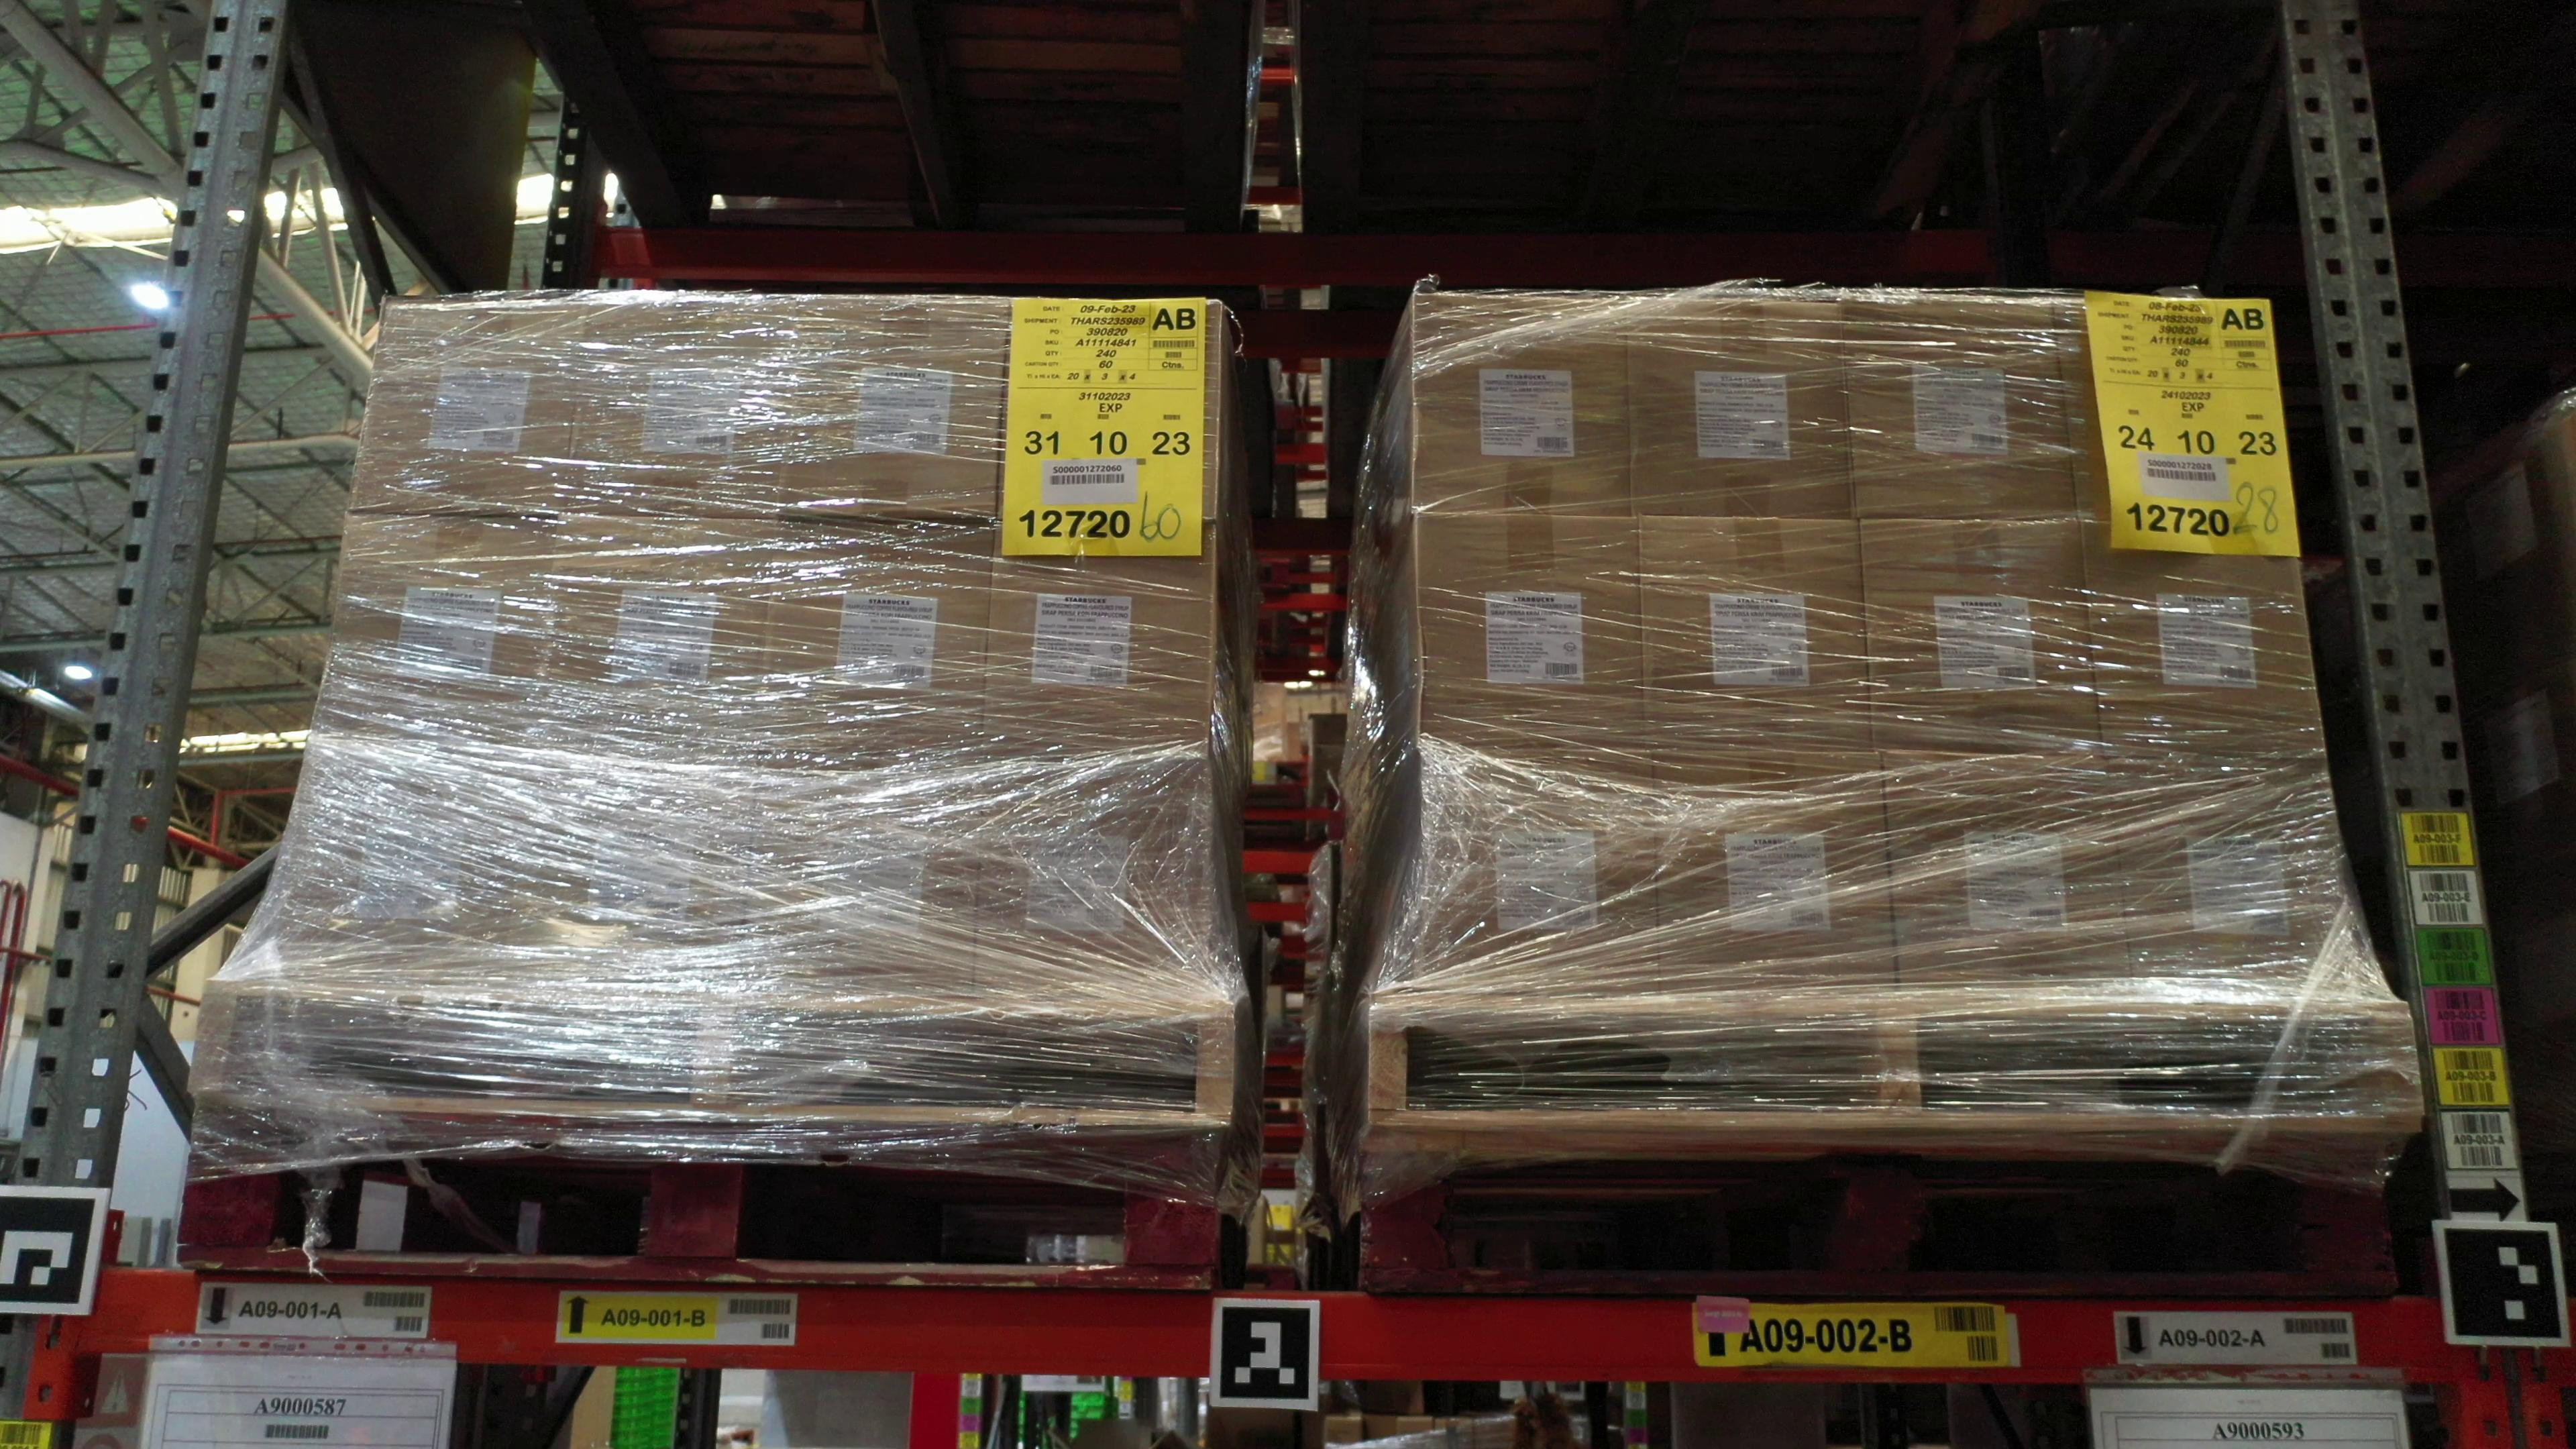-: (265, 738, 533, 1000), (506, 752, 761, 1007), (1881, 748, 2135, 1001), (2107, 755, 2364, 1003), (740, 763, 984, 1010), (754, 517, 994, 768), (311, 517, 566, 752), (984, 520, 1217, 777), (2079, 518, 2325, 761), (1654, 752, 1898, 994), (1858, 517, 2104, 757), (533, 515, 780, 754), (1637, 515, 1874, 761), (1421, 752, 1661, 993), (977, 763, 1210, 1003), (1414, 511, 1645, 754), (2052, 295, 2296, 525), (1838, 295, 2077, 524), (1621, 290, 1854, 520), (347, 297, 586, 518), (561, 295, 796, 518), (777, 295, 1008, 520), (1412, 290, 1633, 518), (998, 295, 1221, 520)
